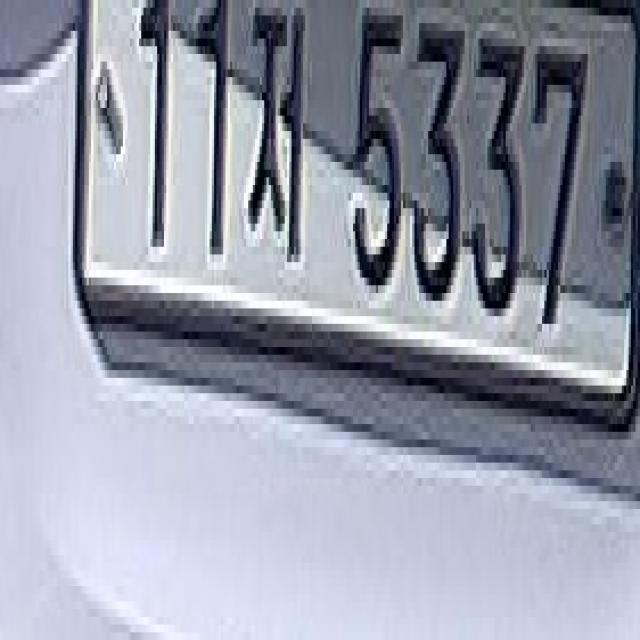1: (132, 8, 182, 262), (191, 8, 237, 270)
3: (467, 8, 528, 332), (410, 8, 465, 308)
5: (346, 8, 406, 316)
7: (528, 8, 592, 332)
jeo: (244, 8, 308, 293)
license_plate: (68, 8, 629, 447)
